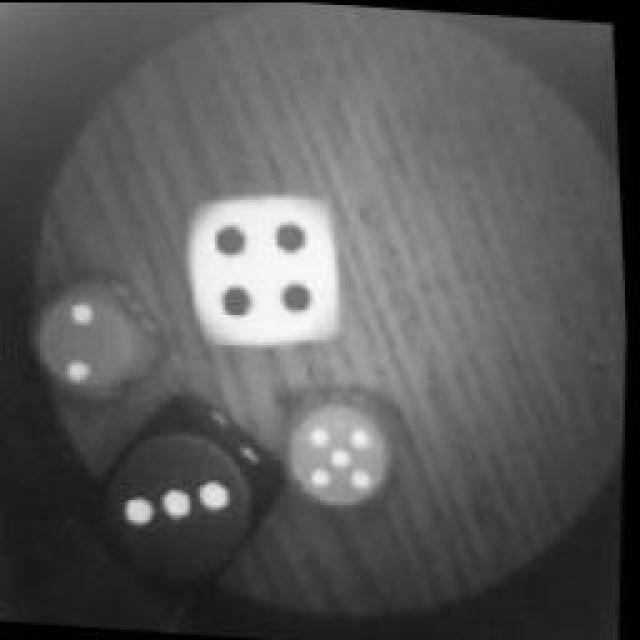dice_2: (25, 264, 170, 404)
dice_3: (91, 382, 286, 588)
dice_4: (180, 182, 352, 348)
dice_5: (276, 389, 404, 511)
